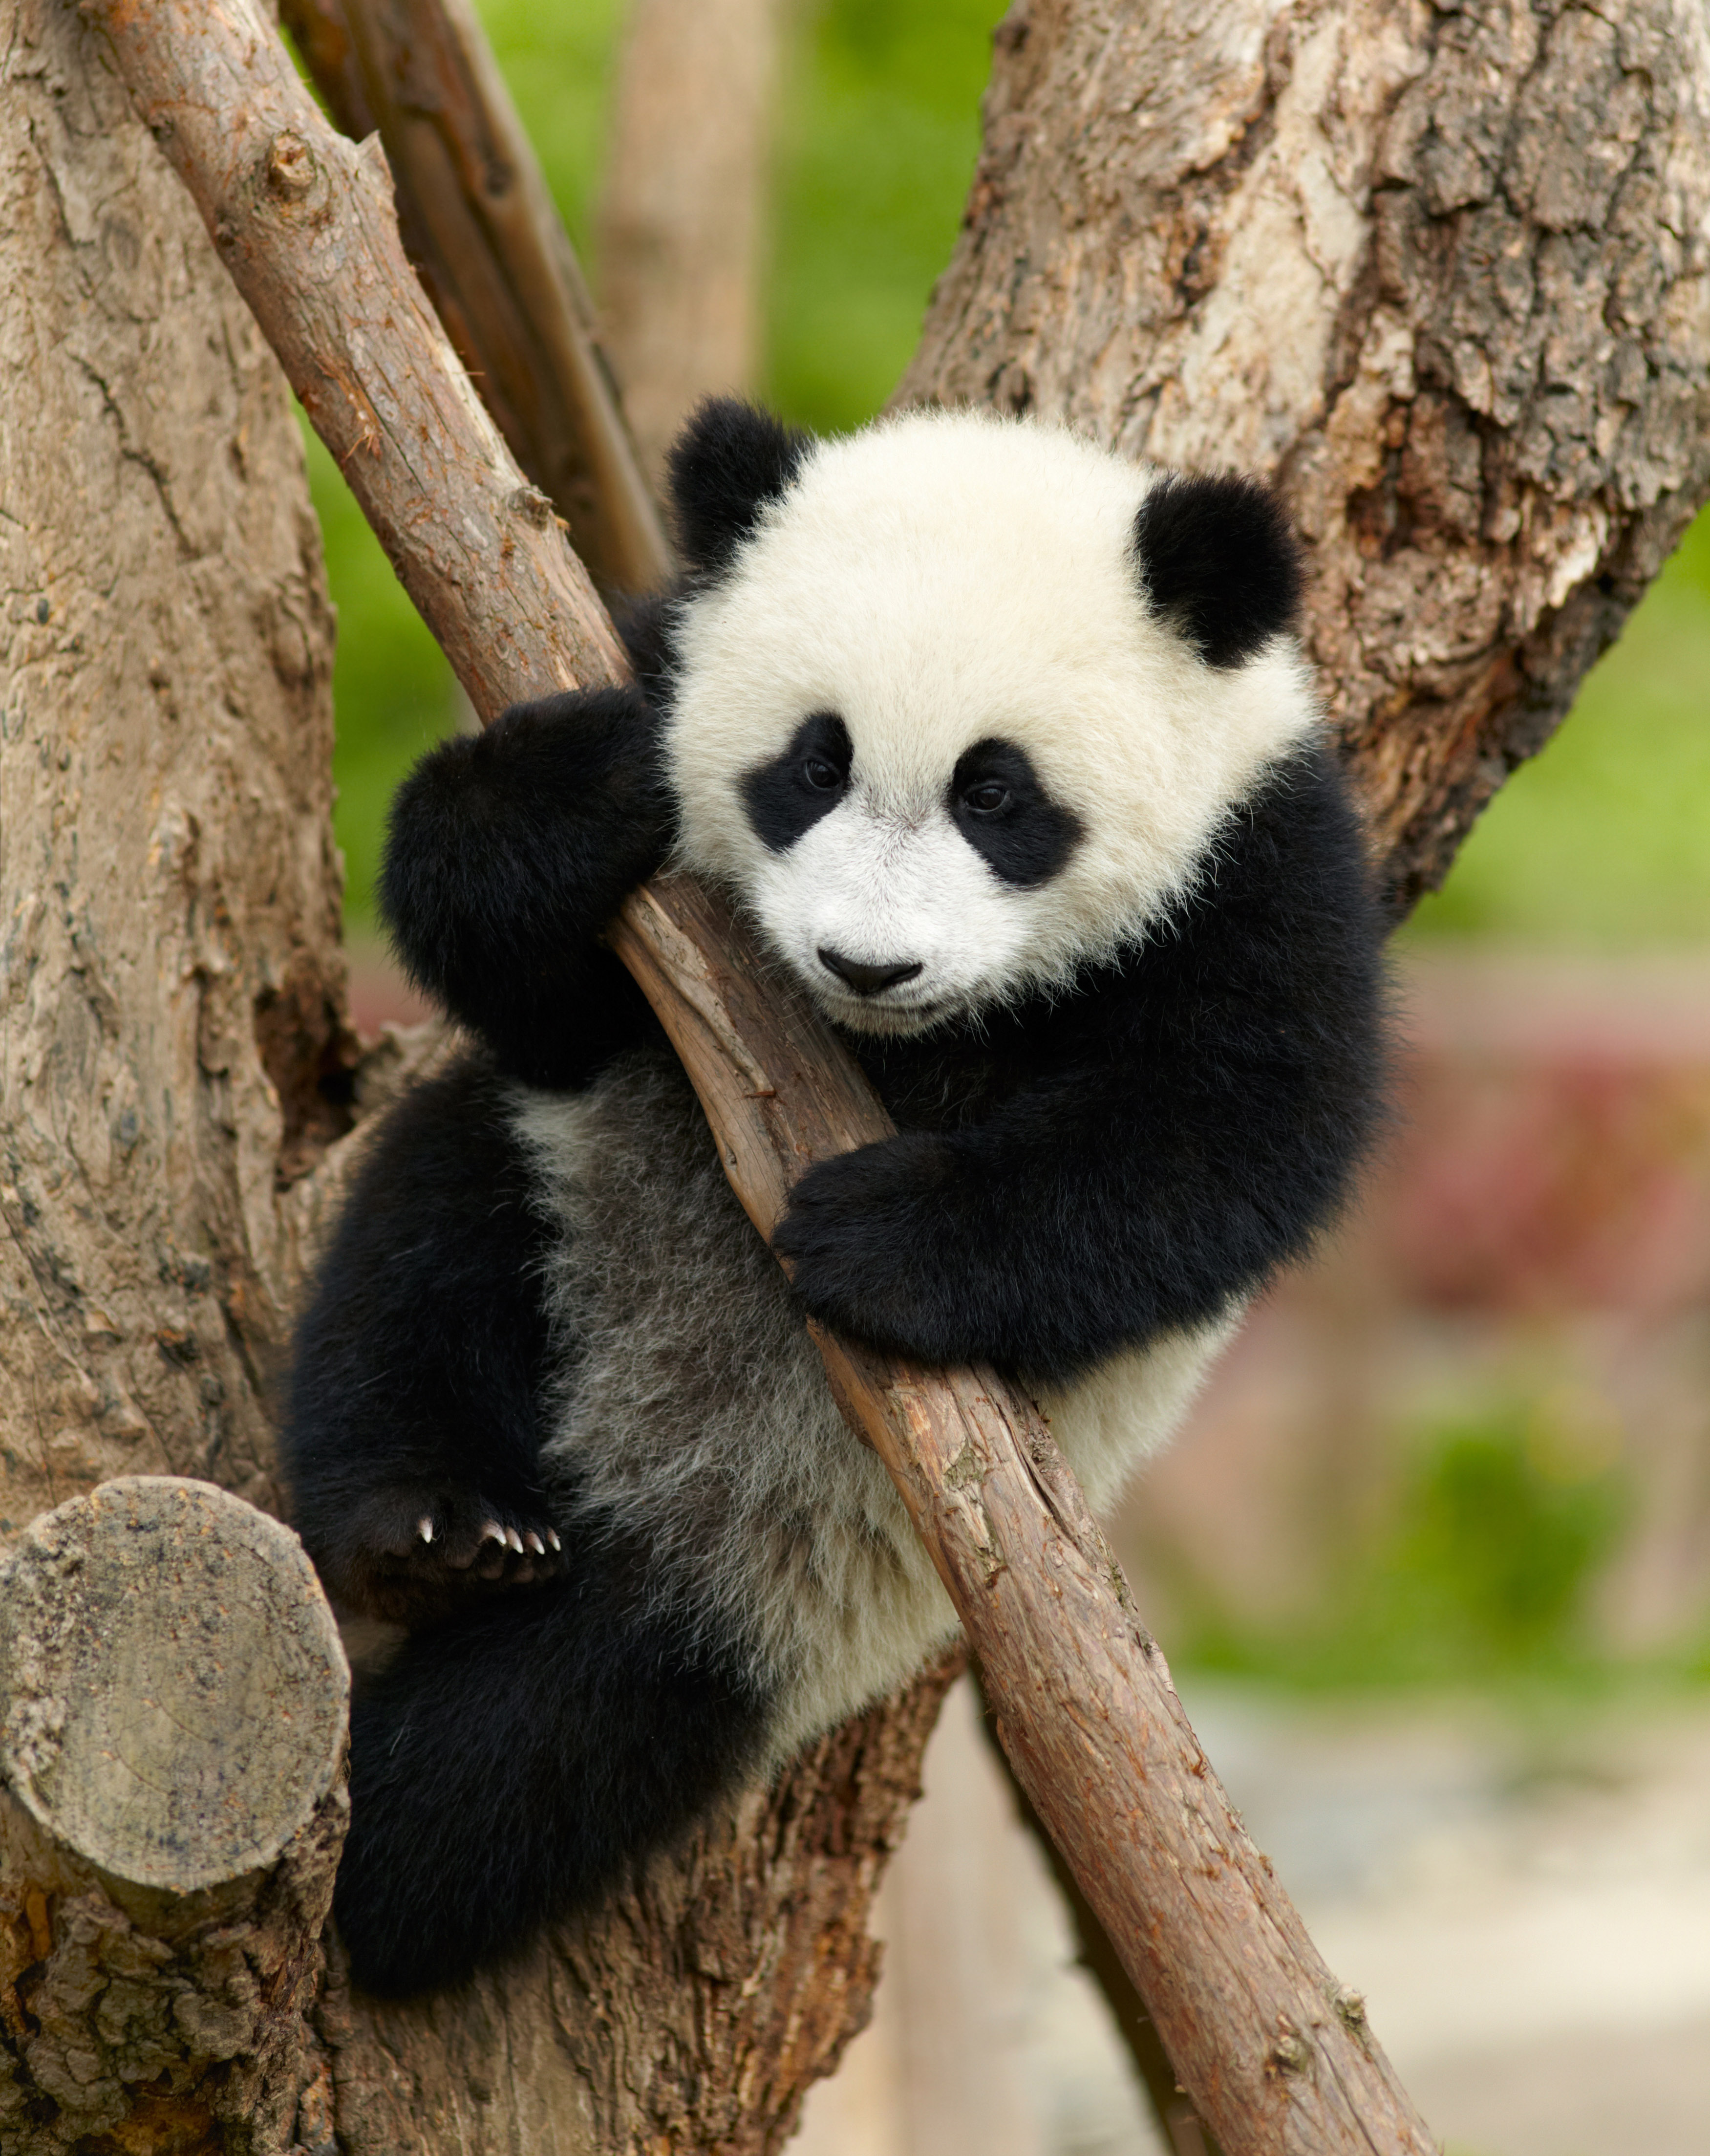panda: (210, 327, 1573, 1885)
